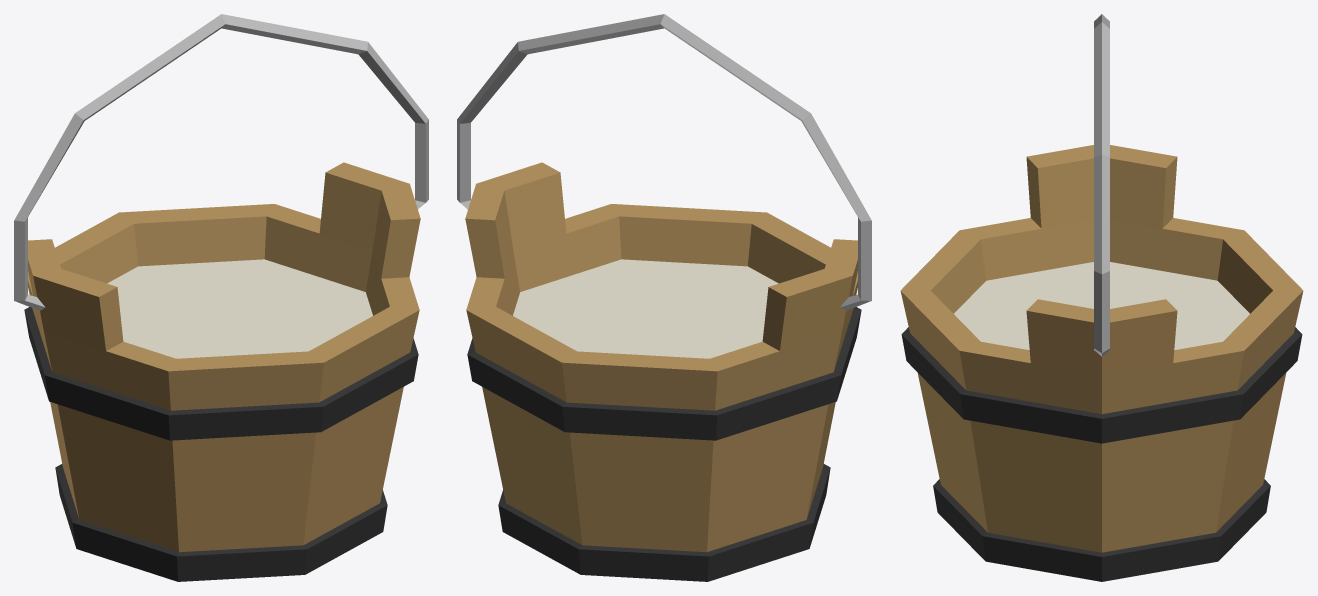
Rendered from Bucket1Milk.fbx.
The picture shows the model from 3 angles, left to right: view 1: azimuth 30°, elevation 25°; view 2: azimuth 150°, elevation 25°; view 3: azimuth 270°, elevation 25°; orthographic projection.
Parts seen in each view (by area): view 1: Cylinder, Cylinder.001; view 2: Cylinder, Cylinder.001; view 3: Cylinder, Cylinder.001.
Part boxes in pixels (box(x1,y1,x2,y2)): Cylinder: box(24, 162, 420, 581); Cylinder.001: box(14, 14, 428, 310); Cylinder: box(465, 162, 861, 581); Cylinder.001: box(457, 14, 871, 310); Cylinder: box(900, 145, 1303, 581); Cylinder.001: box(1094, 14, 1109, 356).
Bounding box in the file's own units: 0.69 × 0.7943 × 0.5913.
